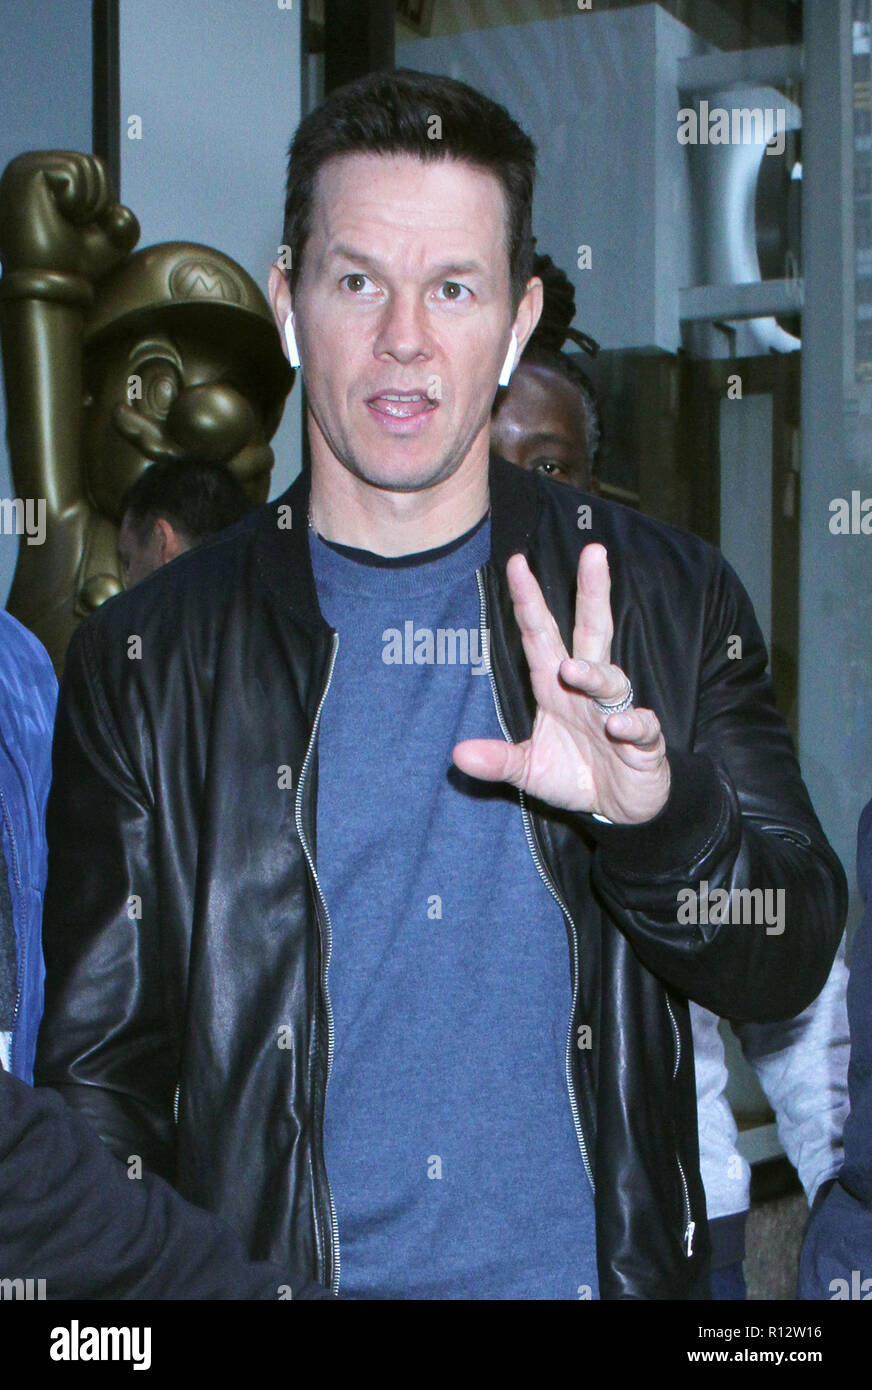earphone: (496, 277, 546, 386), (268, 261, 307, 368)
